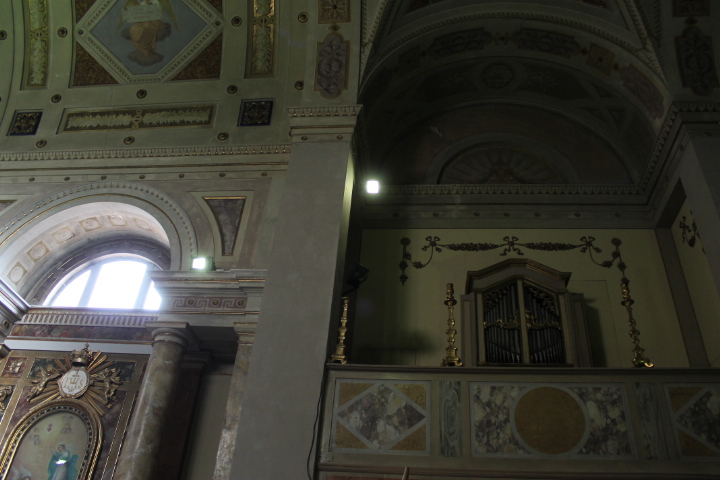Crack: (90, 37, 125, 163)
